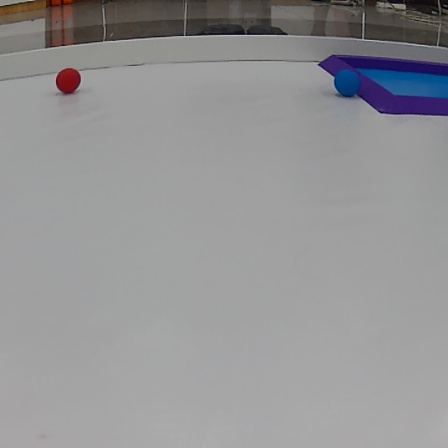blue: (335, 68, 364, 96)
blue_aim: (315, 47, 448, 125)
red: (58, 70, 80, 91)
